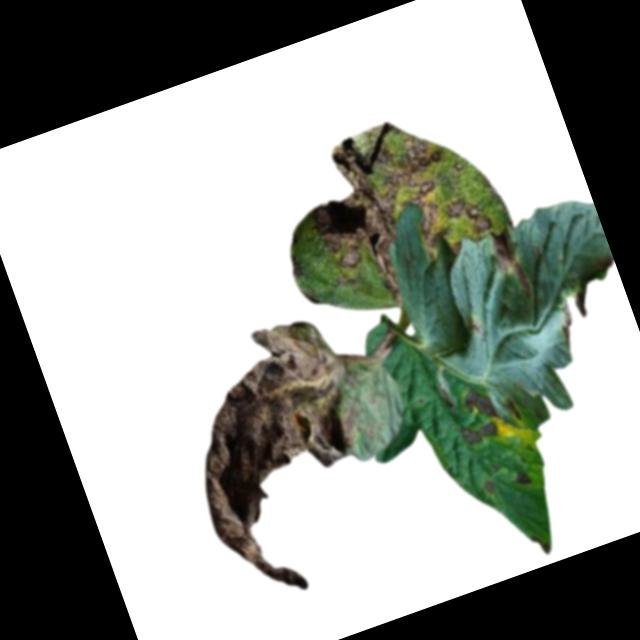Early_blight: (152, 307, 413, 617), (288, 95, 519, 322), (483, 227, 536, 307), (550, 296, 586, 352), (458, 382, 501, 425), (457, 416, 503, 451), (478, 478, 499, 502), (510, 469, 534, 490)
